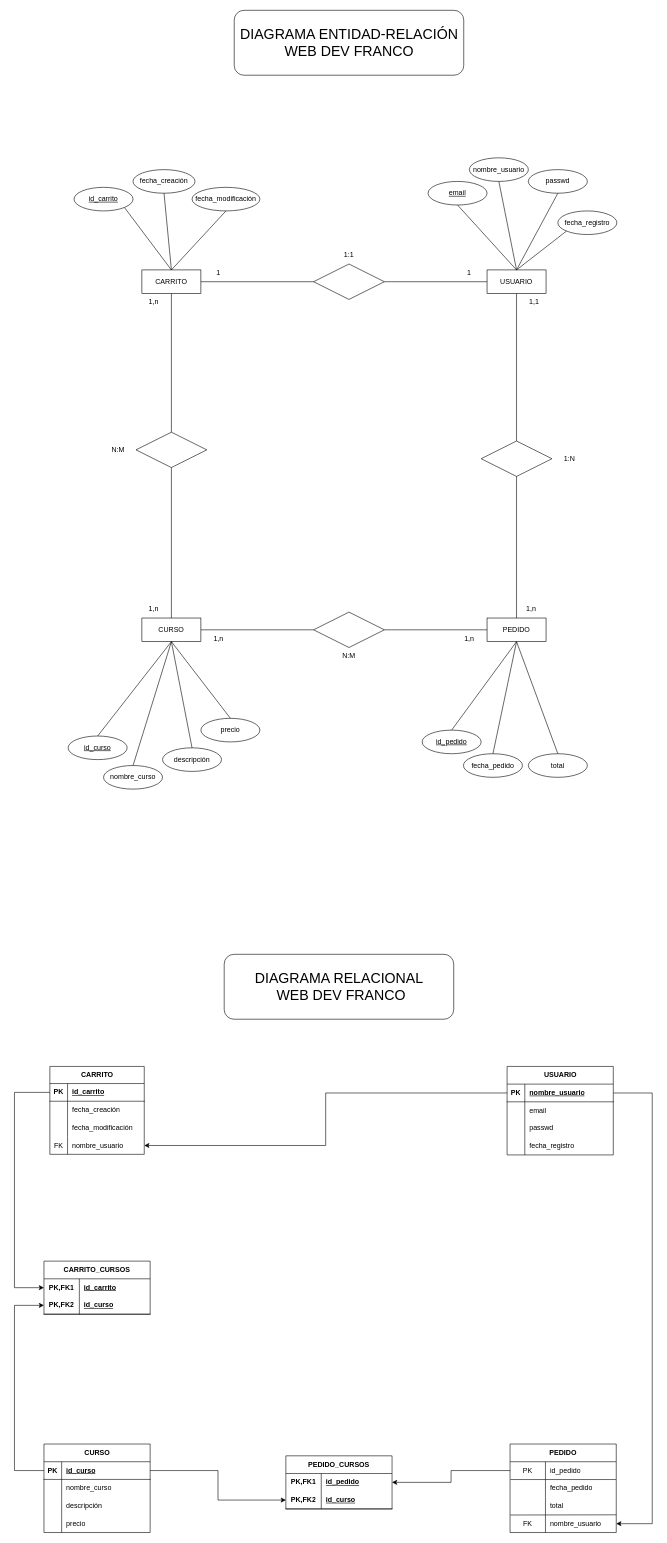
Some shapes in this 667 by 1543 pixel diagram are drawn without their labels. The shapes that lost their labels are listed below. From the top down, each one's centre as x and y in pixels, then its label:
point (348, 281): compone
point (171, 450): añade
point (516, 458): realiza
point (348, 630): compra
